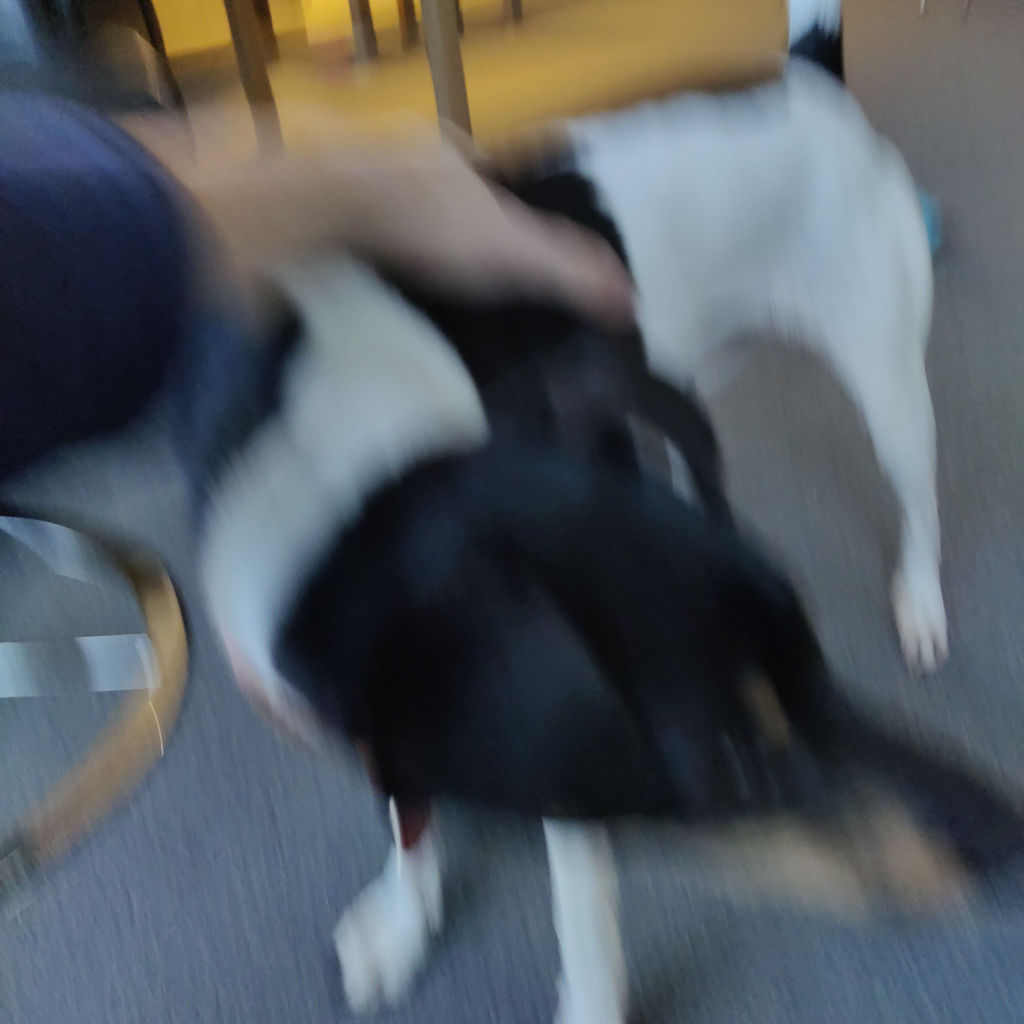Dog: (156, 0, 1024, 1024)
Humanoid: (0, 61, 677, 540)
